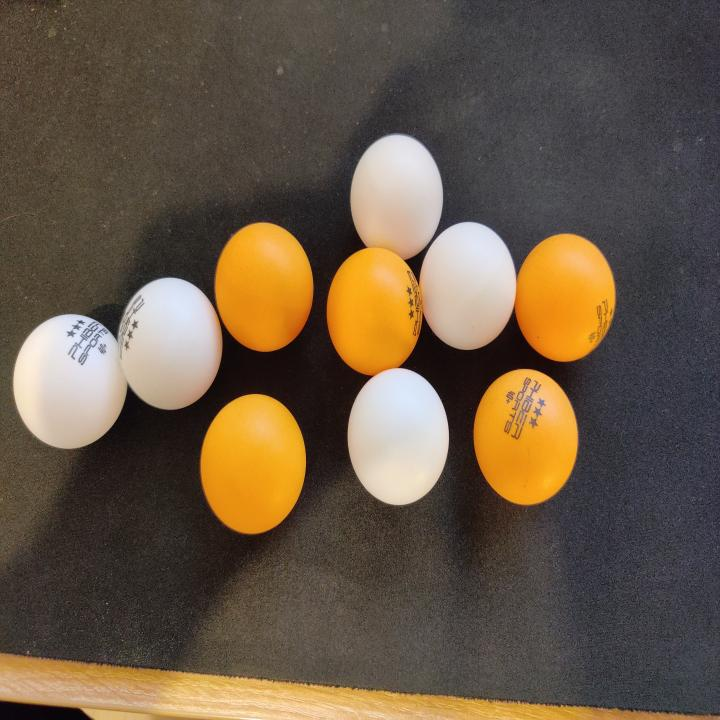orange: (200, 392, 308, 536), (473, 368, 580, 507), (514, 231, 617, 364), (214, 219, 314, 353), (326, 246, 424, 377)
white: (12, 312, 128, 450), (118, 276, 224, 412), (347, 368, 451, 505), (419, 220, 520, 352), (349, 134, 443, 260)
